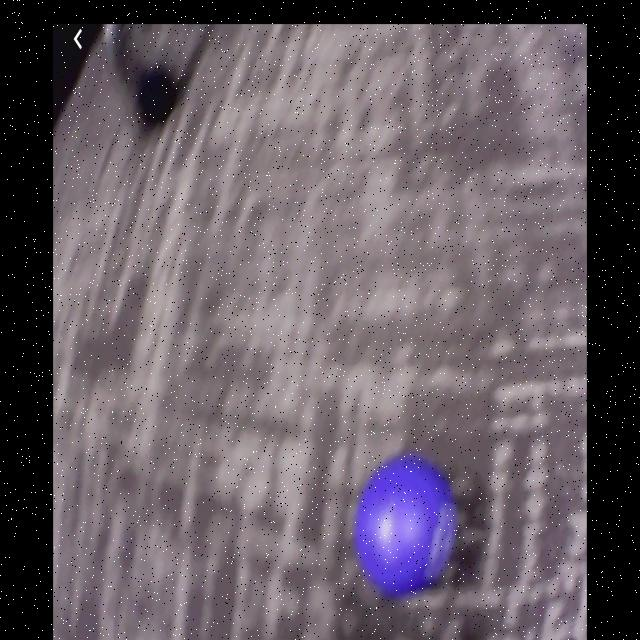ball: (357, 459, 454, 594)
